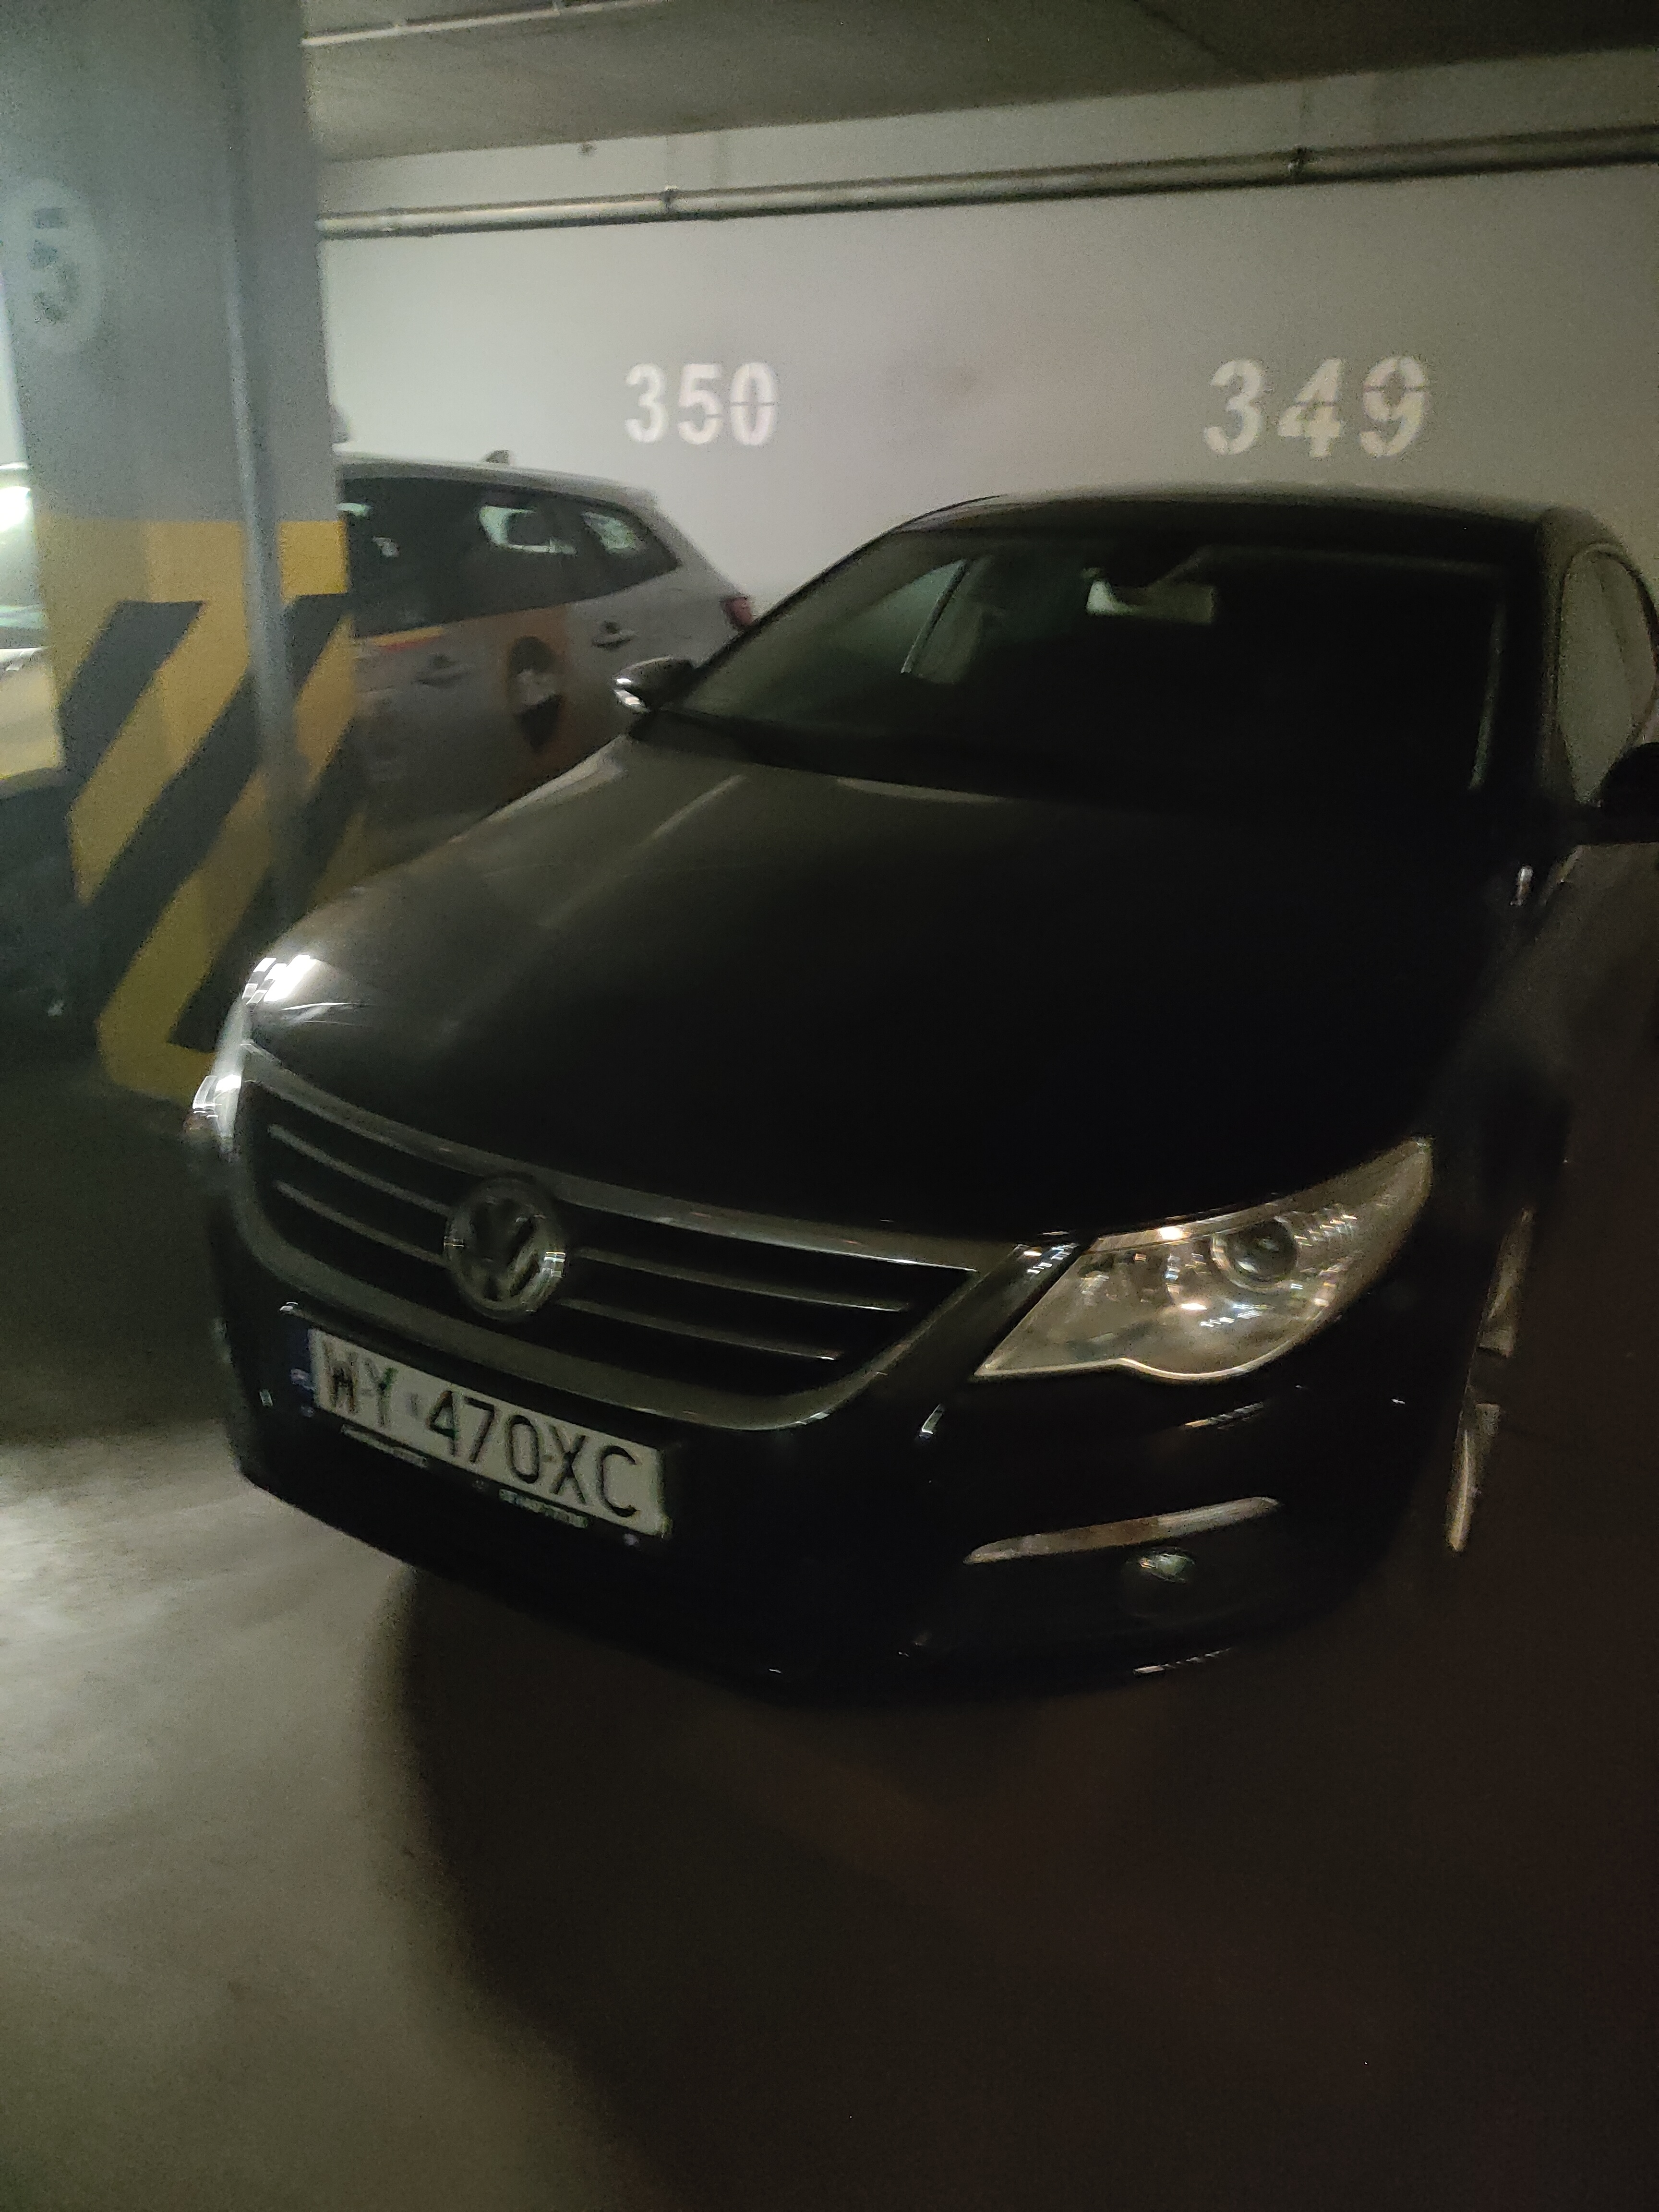number_plate: (280, 1308, 669, 1538)
